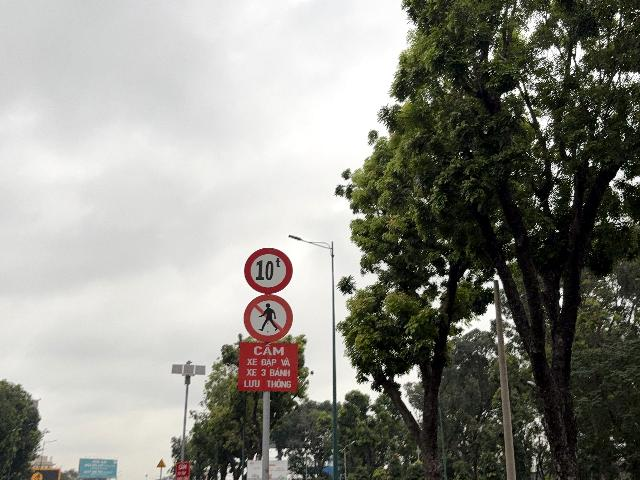cam-nguoi-di-bo: (243, 294, 293, 342)
han-che-trong-luong-xe: (244, 247, 293, 294)
